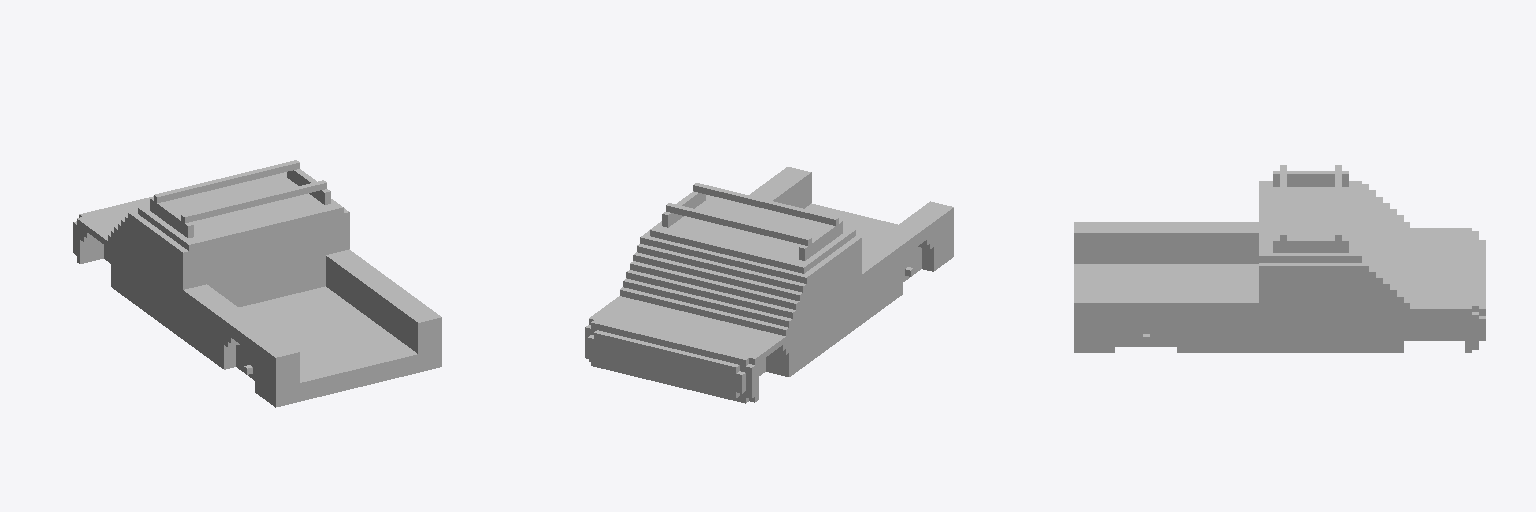
The model's file is Pickup Truck.obj.
3 views of the same model, side by side, from view 1: azimuth 30°, elevation 25°; view 2: azimuth 150°, elevation 25°; view 3: azimuth 270°, elevation 25° (orthographic).
Bounding box in the file's own units: 28 × 18 × 60.